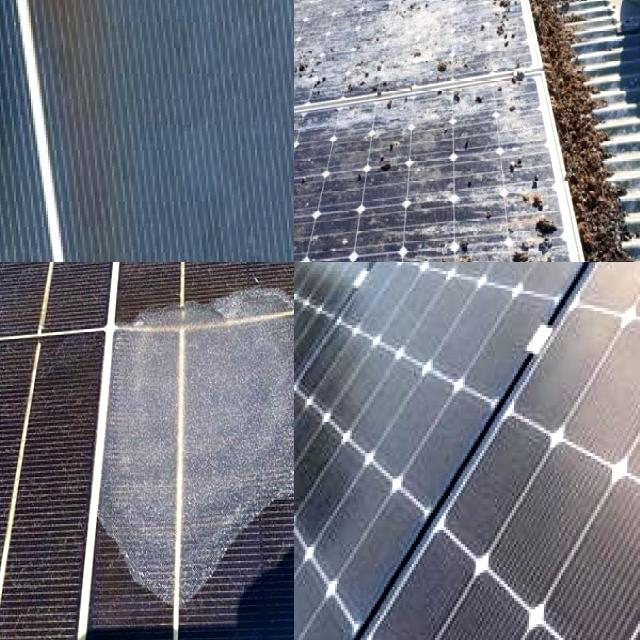bird: (477, 0, 534, 93), (362, 107, 399, 190), (438, 30, 474, 114), (408, 228, 476, 262), (520, 186, 555, 238), (503, 236, 553, 262)
crack: (294, 262, 640, 640)
shadow: (97, 282, 294, 603), (15, 0, 245, 80)
